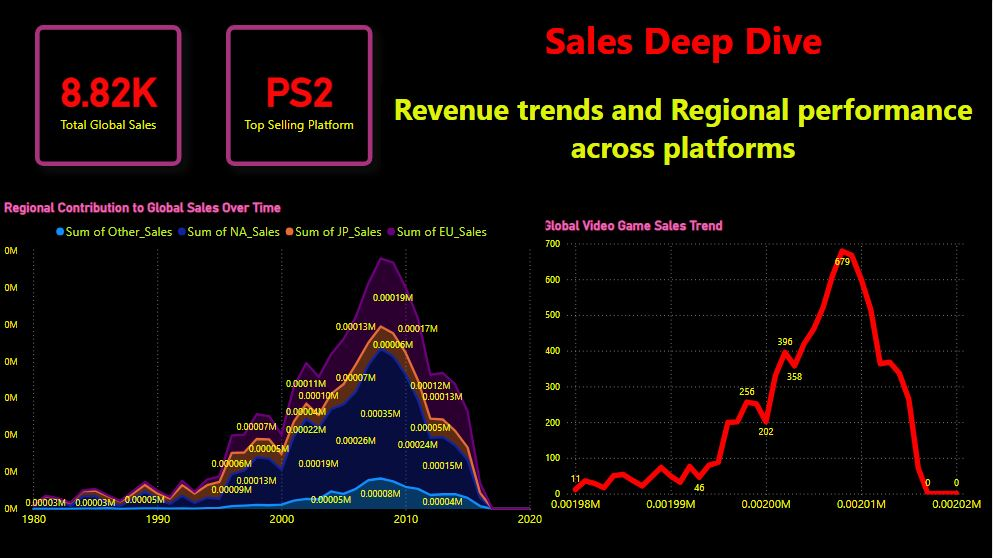

This screenshot's page, from the dashboard's own definition file:
{"tool":"powerbi","page":{"name":"Sales Deep Dive","canvas":[1280,720],"ordinal":2},"visuals":[{"type":"card","fields":{"Values":["video_game_analysis vgsales_clean.Total Global Sales"]},"box":[44.7,32.2,189.5,182.3],"z":0},{"type":"card","fields":{"Values":["video_game_analysis vgsales_clean.Top Selling Platform"]},"box":[291.4,32.2,189.5,182.3],"z":1000},{"type":"lineChart","title":"Global Video Game Sales Trend","fields":{"Y":["Sum(video_game_analysis vgsales_clean.Global_Sales)"],"Category":["video_game_analysis vgsales_clean.Year"]},"box":[695.4,280.7,575.6,389.7],"z":2000},{"type":"stackedAreaChart","title":"Regional Contribution to Global Sales Over Time","fields":{"Category":["video_game_analysis vgsales_clean.Year"],"Y":["Sum(video_game_analysis vgsales_clean.Other_Sales)","Sum(video_game_analysis vgsales_clean.NA_Sales)","Sum(video_game_analysis vgsales_clean.JP_Sales)","Sum(video_game_analysis vgsales_clean.EU_Sales)"]},"box":[0,257.4,704.4,432.6],"z":3000},{"type":"textbox","box":[573.9,12.5,615,96.5],"z":4000},{"type":"textbox","box":[491.6,109.1,779.4,114.4],"z":5000}]}

Visuals, with their boxes in screenshot pixels (x1, y1, x2, y2), scaled from the page's 1280x720 canvas onto the 993x558 screenshot:
card - video_game_analysis vgsales_clean.Total Global Sales: detection(35, 25, 182, 166)
card - video_game_analysis vgsales_clean.Top Selling Platform: detection(226, 25, 373, 166)
"Global Video Game Sales Trend" lineChart: detection(539, 218, 986, 520)
"Regional Contribution to Global Sales Over Time" stackedAreaChart: detection(0, 199, 546, 535)
textbox: detection(445, 10, 922, 84)
textbox: detection(381, 85, 986, 173)
